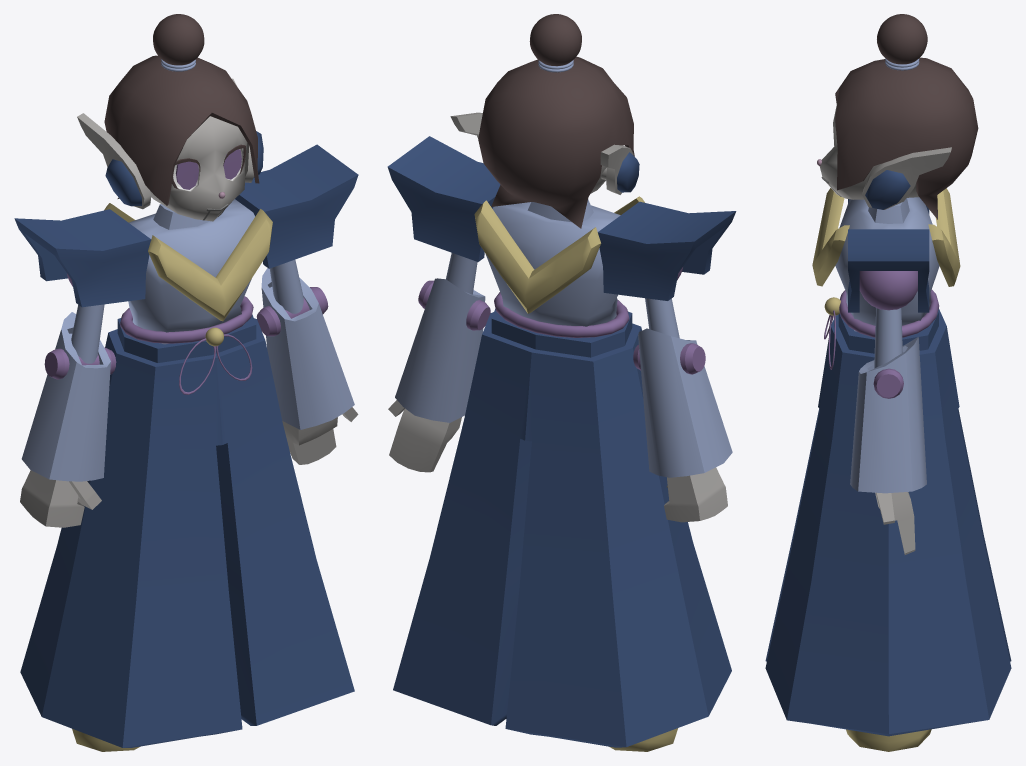
Rendered from hikobosi_model01.fbx.
3 views of the same model, side by side, from view 1: azimuth 30°, elevation 25°; view 2: azimuth 150°, elevation 25°; view 3: azimuth 270°, elevation 25° (orthographic). The views are drawn at different scales.
Parts seen in each view (by area): view 1: hikobosi_join; view 2: hikobosi_join; view 3: hikobosi_join.
Part boxes in pixels (bbox=[...]): hikobosi_join: bbox=[14, 14, 358, 751]; hikobosi_join: bbox=[387, 14, 736, 751]; hikobosi_join: bbox=[765, 14, 1011, 751].
Bounding box in the file's own units: 4.56 × 9.25 × 3.02.
